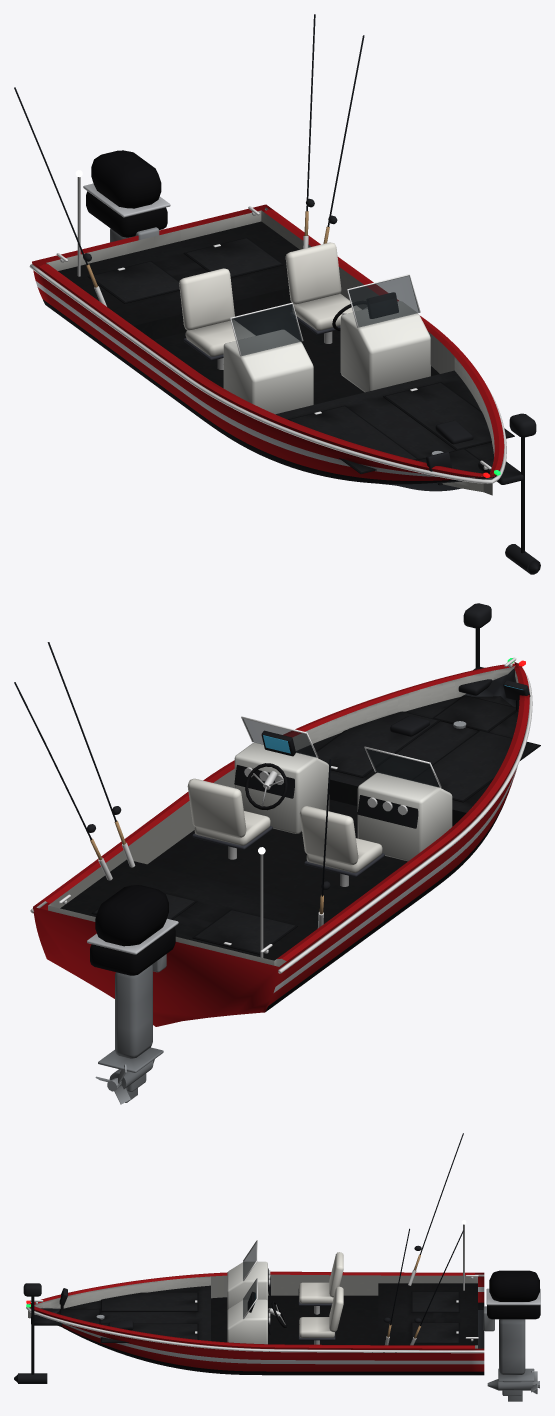
Rendered from boat-bass.glb.
The picture shows the model from 3 angles, top to bottom: view 1: azimuth 30°, elevation 25°; view 2: azimuth 150°, elevation 25°; view 3: azimuth 270°, elevation 25°; orthographic projection. The views are drawn at different scales.
Parts seen in each view (by area): view 1: body; view 2: body; view 3: body.
Boxes of the visible parts, <box> form: body: <box>14,14,540,574</box>; body: <box>14,603,540,1102</box>; body: <box>14,1133,540,1401</box>.
Size of the model in its own units: 2.91 by 3.03 by 6.45.
22 materials, 2 textured.
